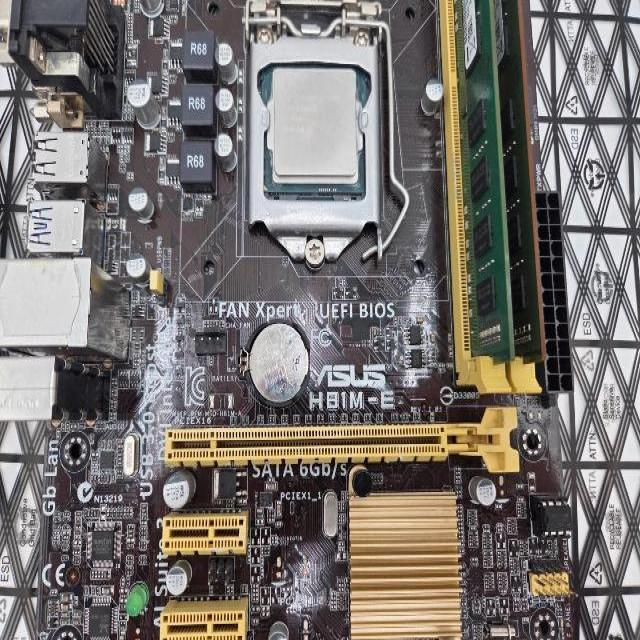CPU: (268, 66, 360, 186)
RAM: (491, 0, 555, 368), (452, 0, 515, 361)
